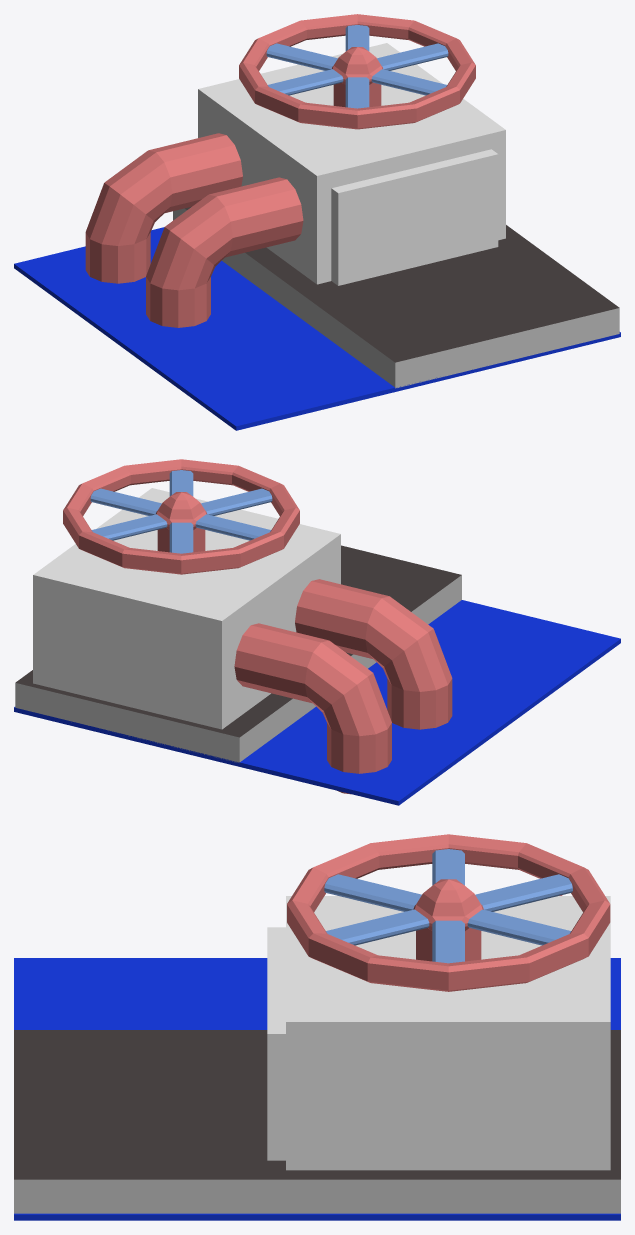
File: pump.fbx
The picture shows the model from 3 angles, top to bottom: view 1: azimuth 30°, elevation 25°; view 2: azimuth 150°, elevation 25°; view 3: azimuth 270°, elevation 25°; orthographic projection. The views are drawn at different scales.
Parts seen in each view (by area): view 1: Cube.001, Cube, Plane, ValveWheel, Cylinder.001, Cylinder; view 2: Cube.001, Plane, ValveWheel, Cube, Cylinder, Cylinder.001; view 3: Cube.001, Cube, ValveWheel, Plane.
Part boxes in pixels (<box>): Cube.001: <box>198,43,505,285</box>; Cube: <box>173,206,619,388</box>; Plane: <box>14,227,620,430</box>; ValveWheel: <box>239,14,475,129</box>; Cylinder.001: <box>146,177,303,327</box>; Cylinder: <box>85,133,242,283</box>; Cube.001: <box>33,488,340,729</box>; Plane: <box>14,600,620,805</box>; ValveWheel: <box>63,459,299,574</box>; Cube: <box>15,545,461,762</box>; Cylinder: <box>234,623,391,794</box>; Cylinder.001: <box>295,579,452,729</box>; Cube.001: <box>267,896,610,1170</box>; Cube: <box>14,1030,620,1213</box>; ValveWheel: <box>287,834,610,991</box>; Plane: <box>14,958,620,1220</box>.
Bounding box in the file's own units: 200 × 107 × 200.
